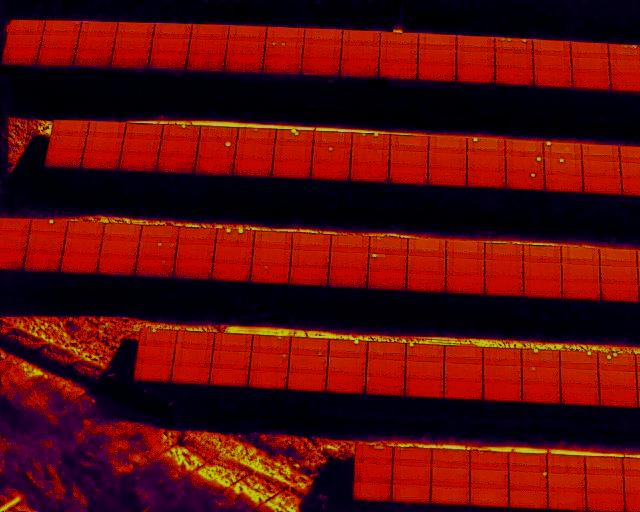Cell: (509, 471, 547, 490), (407, 343, 444, 362), (467, 137, 505, 155), (521, 350, 559, 368), (252, 264, 289, 282), (137, 258, 173, 276), (252, 335, 290, 352), (251, 352, 289, 369), (329, 340, 367, 357), (505, 156, 543, 173), (522, 368, 559, 385), (506, 172, 543, 189), (544, 142, 581, 159), (292, 339, 328, 356), (313, 147, 351, 163), (163, 125, 198, 142), (560, 352, 597, 368), (140, 330, 177, 346), (369, 254, 406, 270), (544, 159, 581, 175), (239, 128, 275, 144), (199, 142, 234, 158), (31, 219, 65, 235)
Cell-Multi: (599, 352, 636, 369), (138, 242, 175, 259), (217, 230, 253, 247), (352, 134, 389, 150), (495, 37, 532, 53), (277, 130, 313, 146), (266, 43, 301, 59), (609, 43, 640, 61)
No-Anomaly: (444, 345, 482, 365), (405, 378, 443, 397), (327, 373, 365, 392), (432, 449, 470, 468), (547, 492, 585, 511), (586, 475, 624, 494), (329, 269, 368, 287), (561, 387, 600, 405), (559, 369, 598, 387), (391, 484, 430, 502), (212, 263, 250, 281), (505, 139, 543, 157), (368, 271, 406, 289), (522, 385, 560, 403), (485, 276, 523, 294), (483, 383, 521, 401), (444, 380, 482, 398), (599, 387, 637, 405), (136, 345, 174, 363), (598, 370, 636, 388), (304, 27, 342, 45), (483, 347, 521, 365), (431, 468, 469, 486), (509, 491, 547, 509), (353, 482, 391, 500), (548, 473, 586, 491), (509, 453, 547, 471), (544, 175, 582, 193), (532, 39, 570, 57), (392, 466, 430, 484), (469, 470, 507, 488), (175, 261, 211, 280), (173, 365, 210, 383), (585, 457, 622, 475), (350, 165, 387, 183), (393, 447, 430, 465), (548, 454, 585, 472), (457, 66, 494, 84), (25, 251, 60, 270), (366, 376, 405, 393), (586, 494, 625, 511), (99, 258, 135, 276), (290, 266, 328, 283), (523, 279, 561, 296), (446, 276, 484, 293), (288, 372, 326, 389), (456, 35, 494, 52), (133, 363, 171, 380), (210, 368, 248, 385), (174, 349, 212, 366), (445, 364, 483, 381), (289, 355, 327, 372), (483, 366, 521, 383), (495, 52, 533, 69), (534, 70, 572, 87), (225, 55, 263, 72), (572, 72, 610, 89), (341, 46, 379, 63), (470, 452, 508, 469), (431, 486, 469, 503), (470, 489, 508, 506), (379, 62, 417, 79), (583, 177, 621, 194), (301, 61, 339, 78), (187, 55, 225, 72), (496, 68, 534, 85), (581, 143, 619, 160), (89, 120, 124, 138), (62, 255, 97, 273), (154, 23, 191, 40), (428, 136, 465, 153), (391, 135, 428, 152), (407, 273, 444, 290), (562, 280, 599, 297), (116, 21, 153, 38), (342, 30, 379, 47), (215, 334, 252, 351), (250, 370, 287, 387), (368, 342, 405, 359), (212, 351, 249, 368), (418, 64, 455, 81), (312, 163, 349, 180), (234, 160, 271, 177), (390, 167, 427, 184), (390, 151, 427, 168), (354, 464, 391, 481), (408, 256, 445, 273), (367, 359, 406, 375), (328, 357, 367, 373), (192, 24, 228, 41), (572, 41, 608, 58), (179, 229, 215, 246), (158, 156, 194, 173), (255, 232, 291, 249), (274, 161, 310, 178), (418, 33, 456, 49), (406, 362, 444, 378), (330, 252, 368, 268), (291, 251, 329, 267), (534, 55, 572, 71), (467, 155, 505, 171), (467, 171, 505, 187), (428, 169, 466, 185), (292, 234, 330, 250), (456, 51, 494, 67), (523, 262, 561, 278), (485, 260, 523, 276), (74, 51, 112, 67), (160, 140, 195, 157), (38, 50, 73, 67), (197, 158, 232, 175), (104, 223, 139, 240), (83, 153, 118, 170), (121, 154, 156, 171), (80, 21, 117, 37), (228, 25, 265, 41), (381, 32, 418, 48), (572, 56, 609, 72), (380, 47, 417, 63), (226, 40, 263, 56), (408, 239, 445, 255), (447, 242, 484, 258), (523, 245, 560, 261), (177, 244, 214, 260), (418, 49, 455, 65), (446, 259, 483, 275), (302, 45, 341, 60), (86, 136, 120, 153), (102, 241, 136, 258), (67, 221, 101, 238), (77, 36, 113, 52), (264, 59, 300, 75), (3, 48, 35, 66), (141, 225, 177, 241), (562, 264, 598, 280), (236, 144, 272, 160), (484, 244, 522, 259), (331, 235, 369, 250), (429, 154, 467, 169), (341, 62, 379, 77), (601, 266, 636, 282), (601, 283, 636, 299), (127, 123, 162, 139), (150, 53, 185, 69), (153, 39, 188, 55), (64, 238, 99, 254), (113, 52, 148, 68), (314, 132, 351, 147), (267, 26, 304, 41), (177, 332, 214, 347), (562, 247, 599, 262), (214, 247, 251, 262), (369, 238, 406, 253), (582, 161, 619, 176), (124, 139, 158, 155), (28, 235, 62, 251), (47, 151, 81, 167), (253, 249, 289, 264), (600, 250, 636, 265), (189, 40, 225, 55), (352, 150, 388, 165), (53, 120, 86, 136), (42, 34, 77, 49), (115, 37, 150, 52), (275, 145, 310, 160), (51, 136, 83, 152), (6, 34, 40, 49), (200, 127, 236, 141), (45, 20, 78, 35), (10, 20, 42, 35)
Unclassified: (355, 445, 392, 463)
